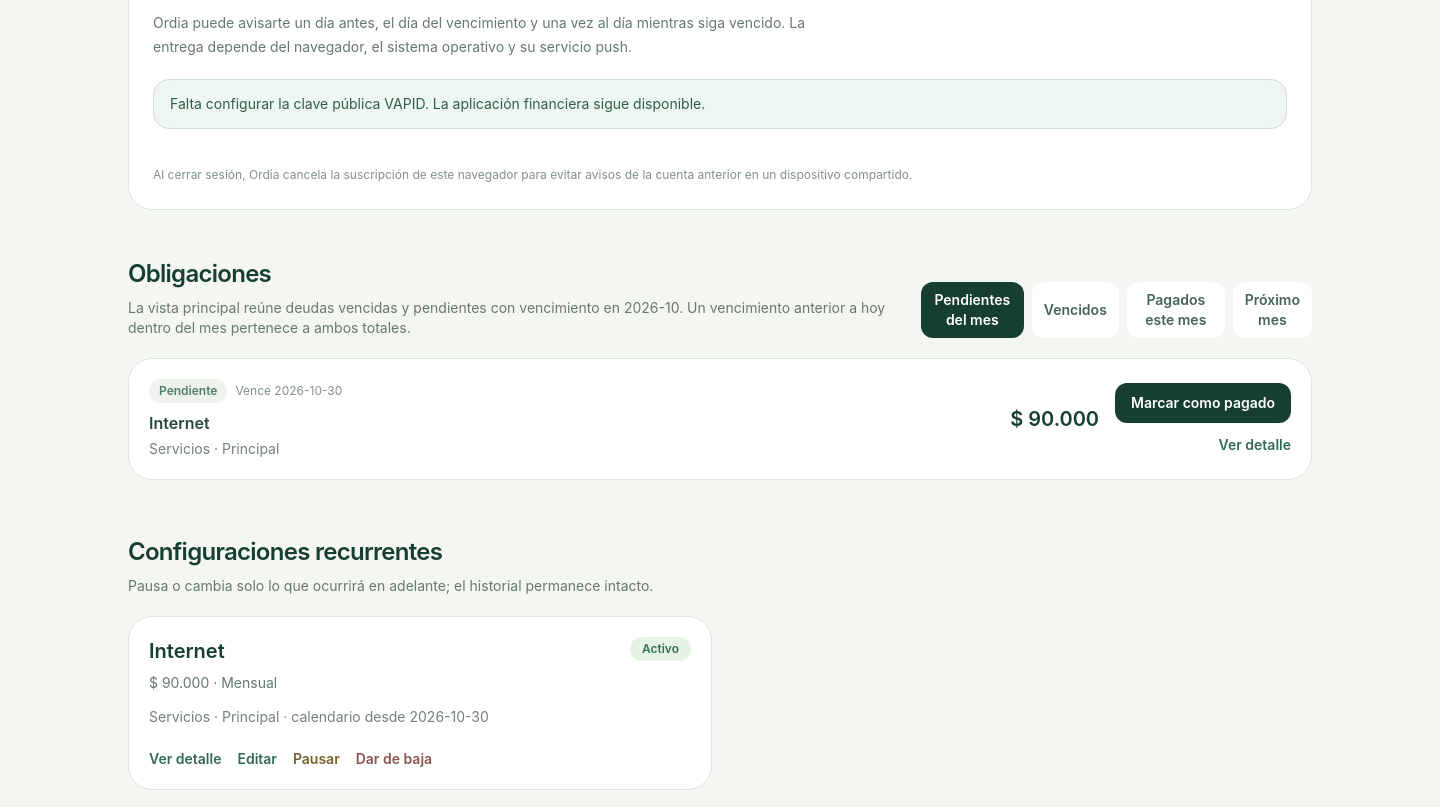
Scenario: gastos fijos › precarga el pago y lo registra con el flujo dedicado
This screenshot has width=1440, height=807.
(page scrolled)
Click the button "Marcar como pagado": (1203, 402) left=1115, top=382, right=1291, bottom=422
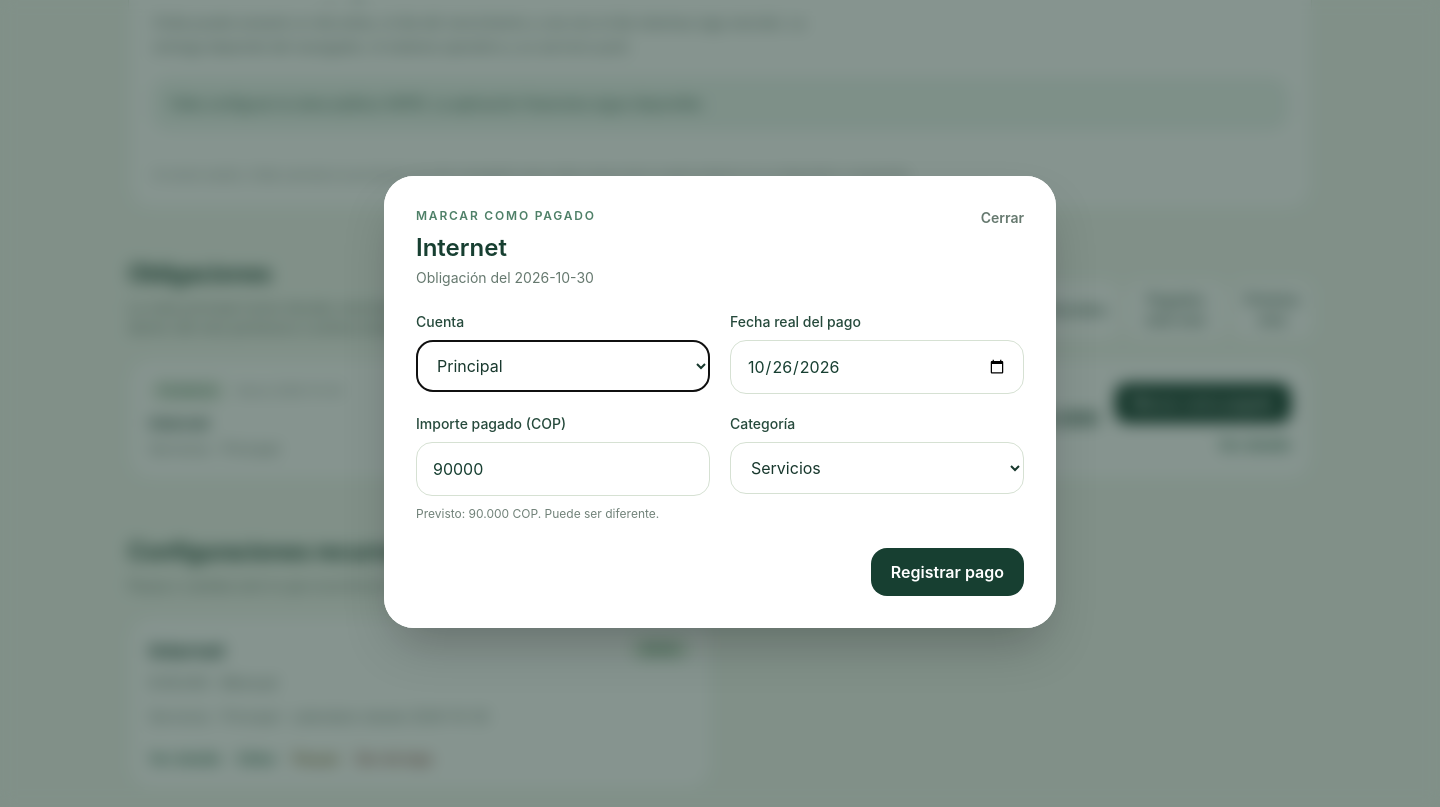
Check: the dropdown labelled "Cuenta" shows "Principal", box left=416, top=340, right=710, bottom=392
Check: the number field labelled "Importe pagado (COP)" holds "90000", box left=416, top=442, right=710, bottom=496
Click the button "Registrar pago": (947, 572) left=871, top=548, right=1024, bottom=596
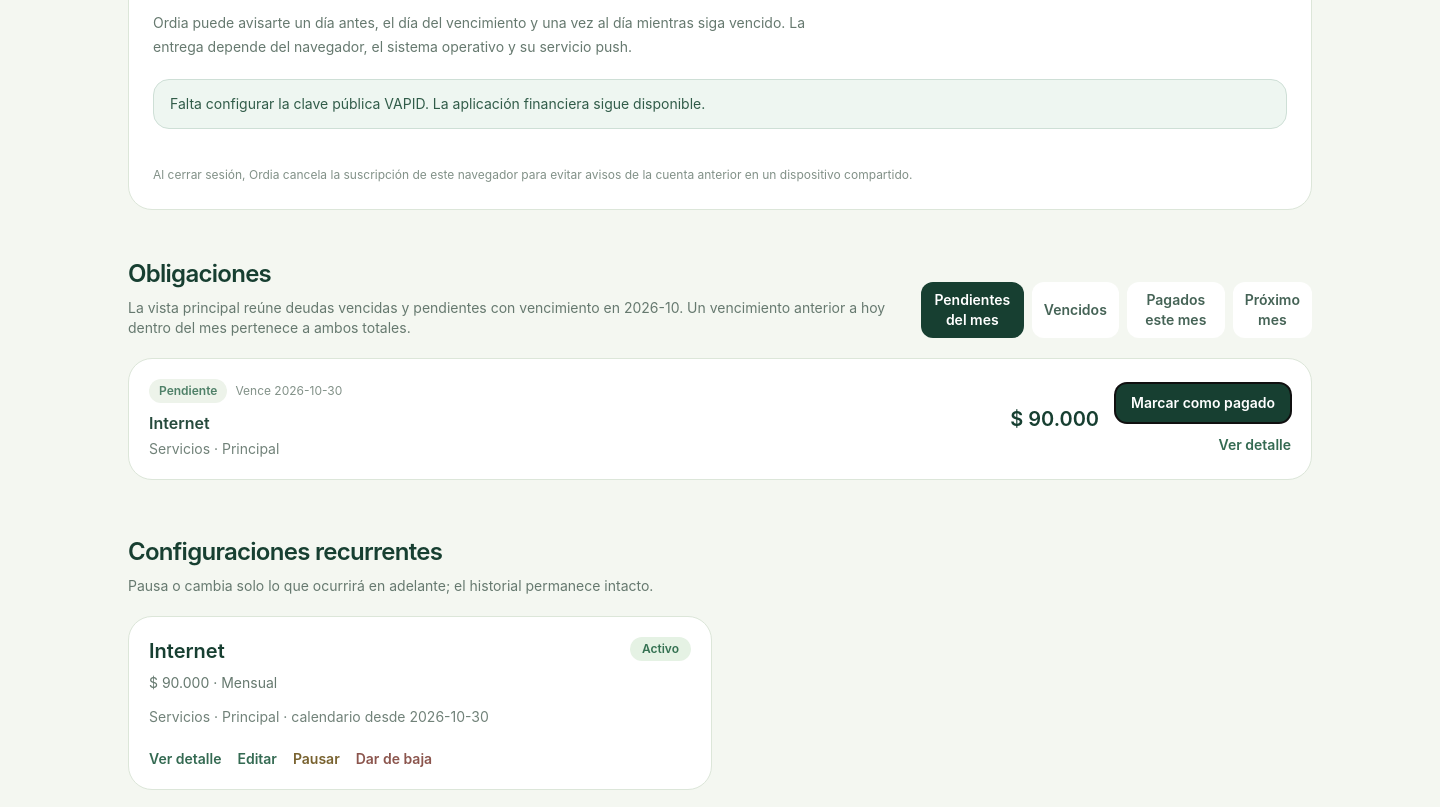
Check: the button "Registrar pago" is gone
